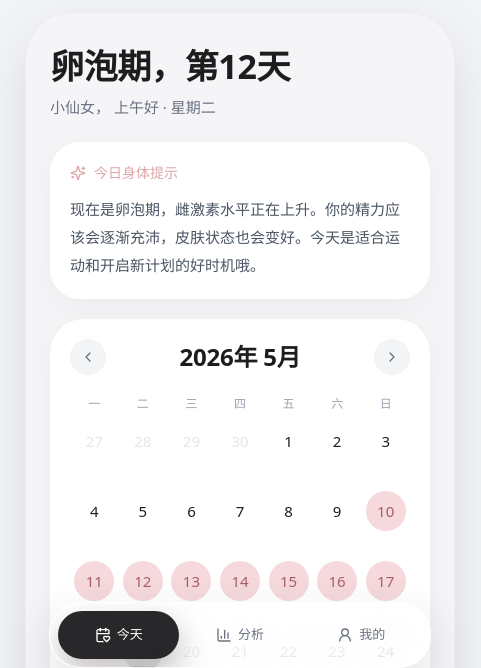
Half Moon app › shows the end prompt after a period starts and closes the inclusive calendar range
This screenshot has width=481, height=668.
Click the button named "5月14日" at {"x": 240, "y": 594}, box top-left (216, 561), bottom-right (264, 627)
(page scrolled)
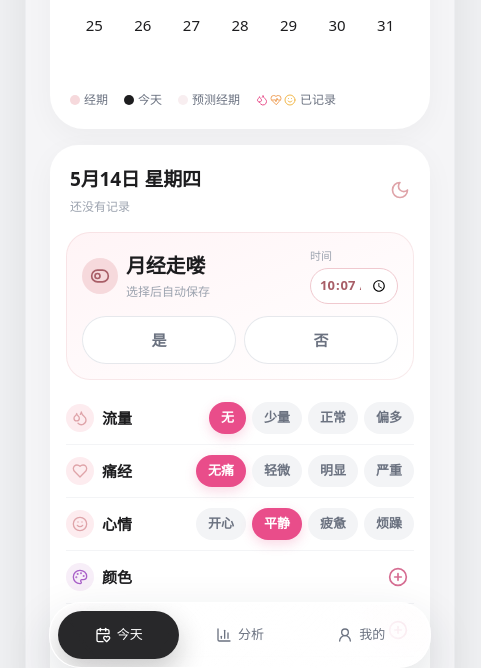
Expected: the heading "月经走喽" is shown, top-left (126, 251), bottom-right (210, 281)
Click the button "是" at {"x": 159, "y": 340}, box top-left (82, 316), bottom-right (236, 364)
(page scrolled)
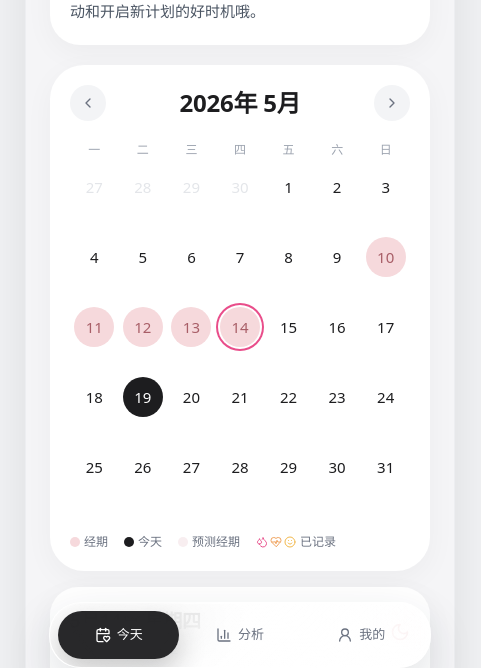
Expected: the button named "5月10日 经期开始" is shown, top-left (361, 237), bottom-right (410, 303)
Expected: the button named "5月14日 经期结束" is shown, top-left (216, 307), bottom-right (264, 373)
